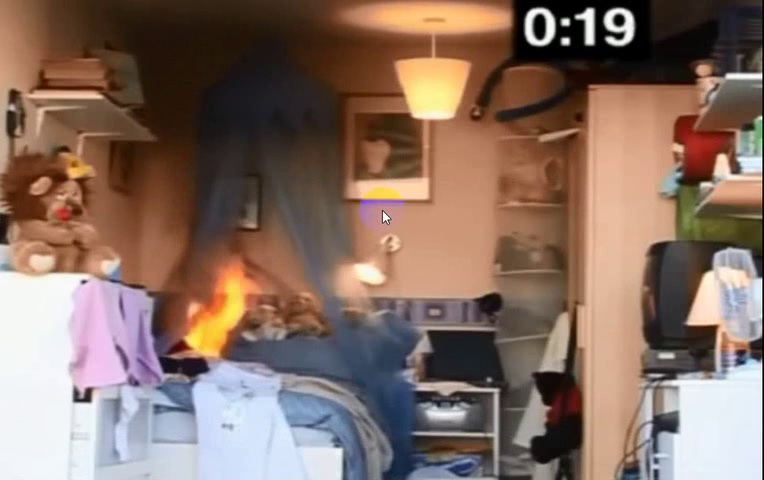fire: (169, 252, 254, 362)
